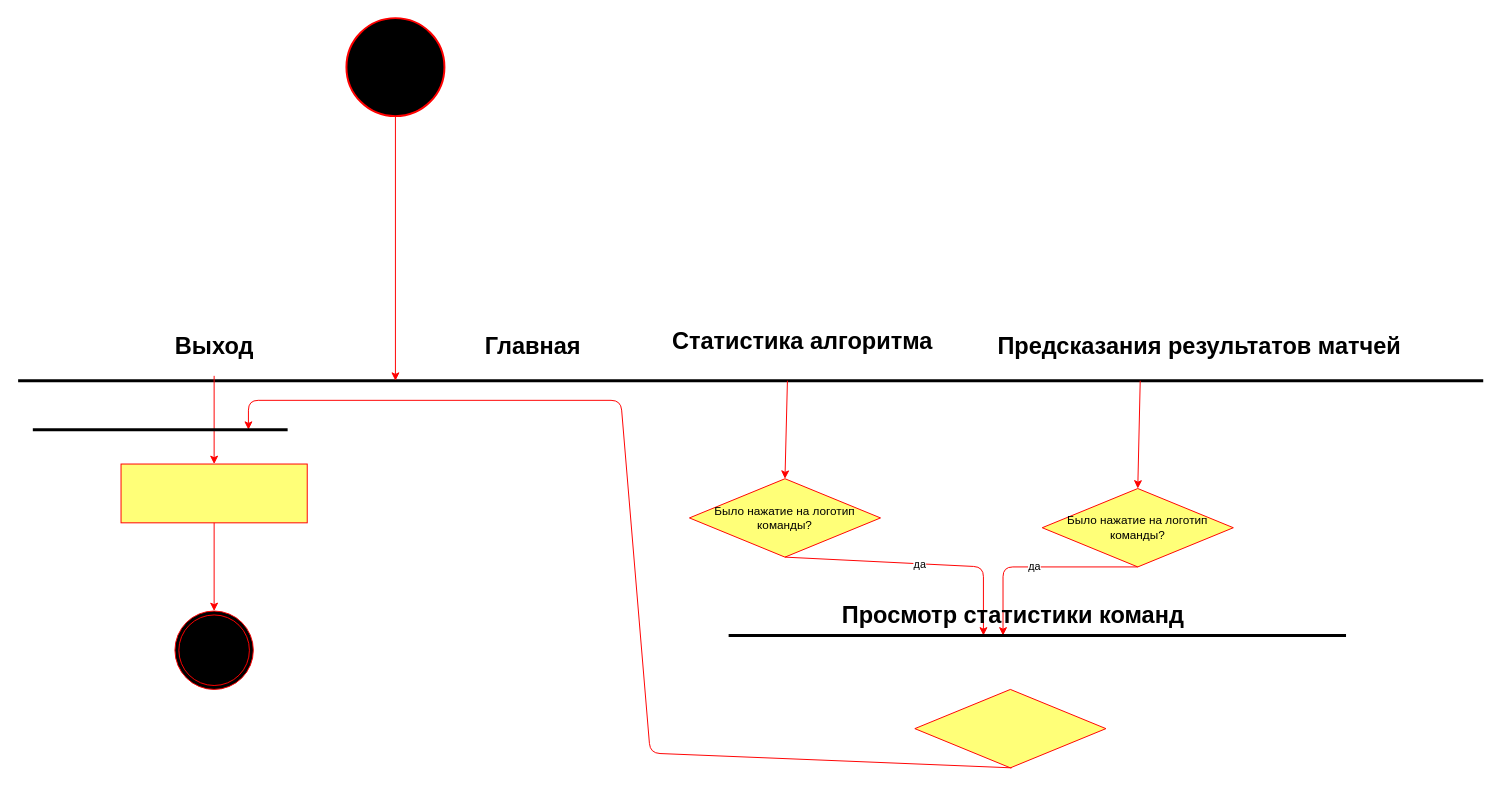
The diagram is 1502 pixels wide and 793 high, and some of its shapes have lost their labels. The shapes that lost their labels are listed below. From the top down, each one's box as (x1, y1, x2, y2) in pixels, then its label:
(120, 463, 307, 523): Закрытие приложения
(914, 688, 1106, 768): Была закрыта страница?
